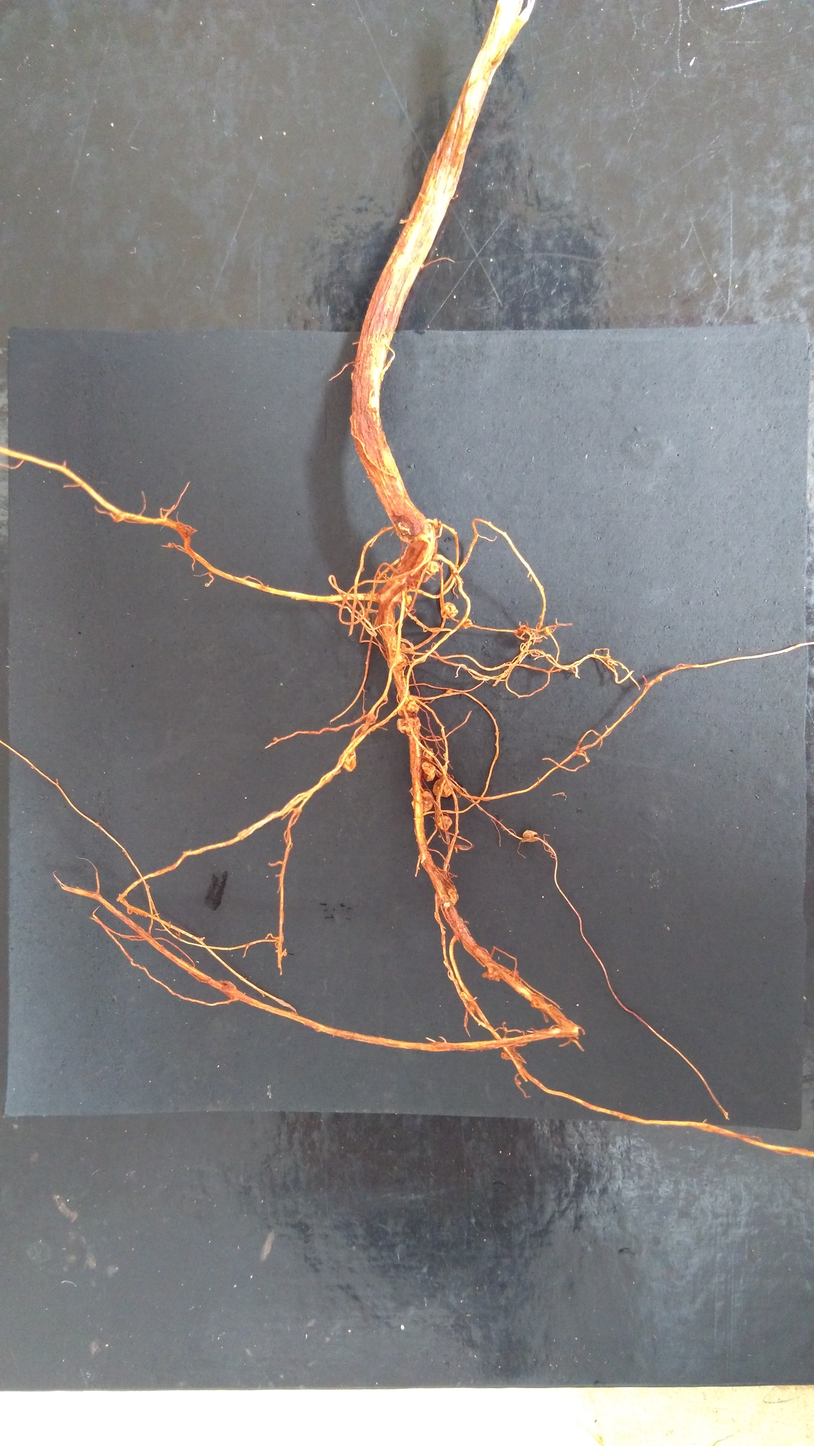nodule: (396, 717, 421, 736), (339, 747, 357, 772), (433, 777, 454, 798), (420, 761, 437, 782), (444, 882, 459, 904), (440, 602, 459, 619), (390, 651, 407, 670), (500, 1045, 520, 1060), (421, 789, 434, 812), (482, 966, 500, 981), (218, 979, 237, 993), (436, 815, 453, 830), (522, 829, 540, 843), (405, 699, 420, 713), (398, 520, 411, 535), (394, 573, 408, 586), (400, 594, 413, 607), (427, 560, 439, 574), (422, 748, 434, 762), (420, 568, 431, 582), (409, 787, 416, 809), (461, 617, 473, 629), (466, 1000, 477, 1013), (408, 578, 420, 589), (517, 625, 531, 634), (397, 702, 405, 716), (531, 632, 541, 643), (510, 969, 519, 978), (366, 713, 376, 721), (432, 627, 441, 635), (400, 642, 407, 650), (433, 518, 438, 528), (544, 629, 552, 635), (167, 542, 175, 548), (443, 902, 451, 907), (409, 695, 415, 701), (360, 567, 365, 573), (445, 690, 452, 694), (383, 696, 388, 701), (438, 520, 441, 528), (413, 616, 417, 621), (414, 695, 418, 700), (438, 834, 442, 838)
